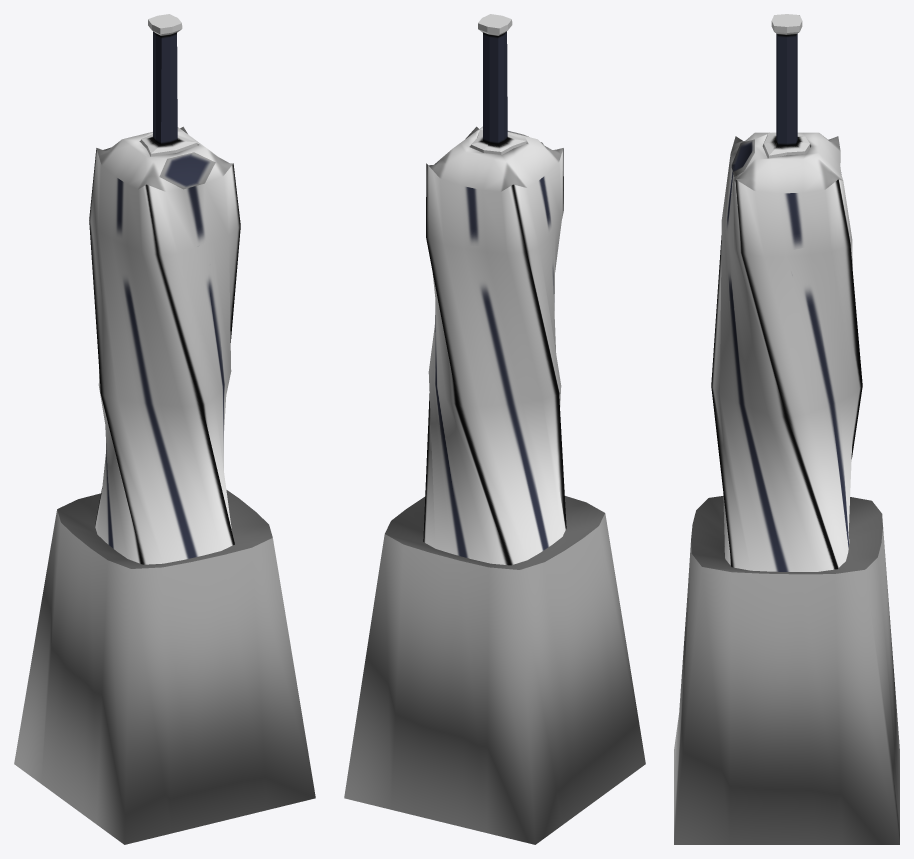
Rendered from interruptor.dae.
3 views of the same model, side by side, from view 1: azimuth 30°, elevation 25°; view 2: azimuth 150°, elevation 25°; view 3: azimuth 270°, elevation 25° (orthographic). The views are drawn at different scales.
Visible parts, largest first — view 1: Cube, Cube_002; view 2: Cube, Cube_002; view 3: Cube, Cube_002.
Boxes of the visible parts, left/top/right/bottom form: Cube: left=14, top=126, right=315, bottom=844; Cube_002: left=141, top=14, right=197, bottom=156; Cube: left=344, top=126, right=645, bottom=844; Cube_002: left=471, top=14, right=526, bottom=154; Cube: left=674, top=132, right=899, bottom=844; Cube_002: left=764, top=14, right=809, bottom=158.
Bounding box in the file's own units: 1.76 × 1.76 × 6.68.
Materials: 2 (2 with a texture image).
